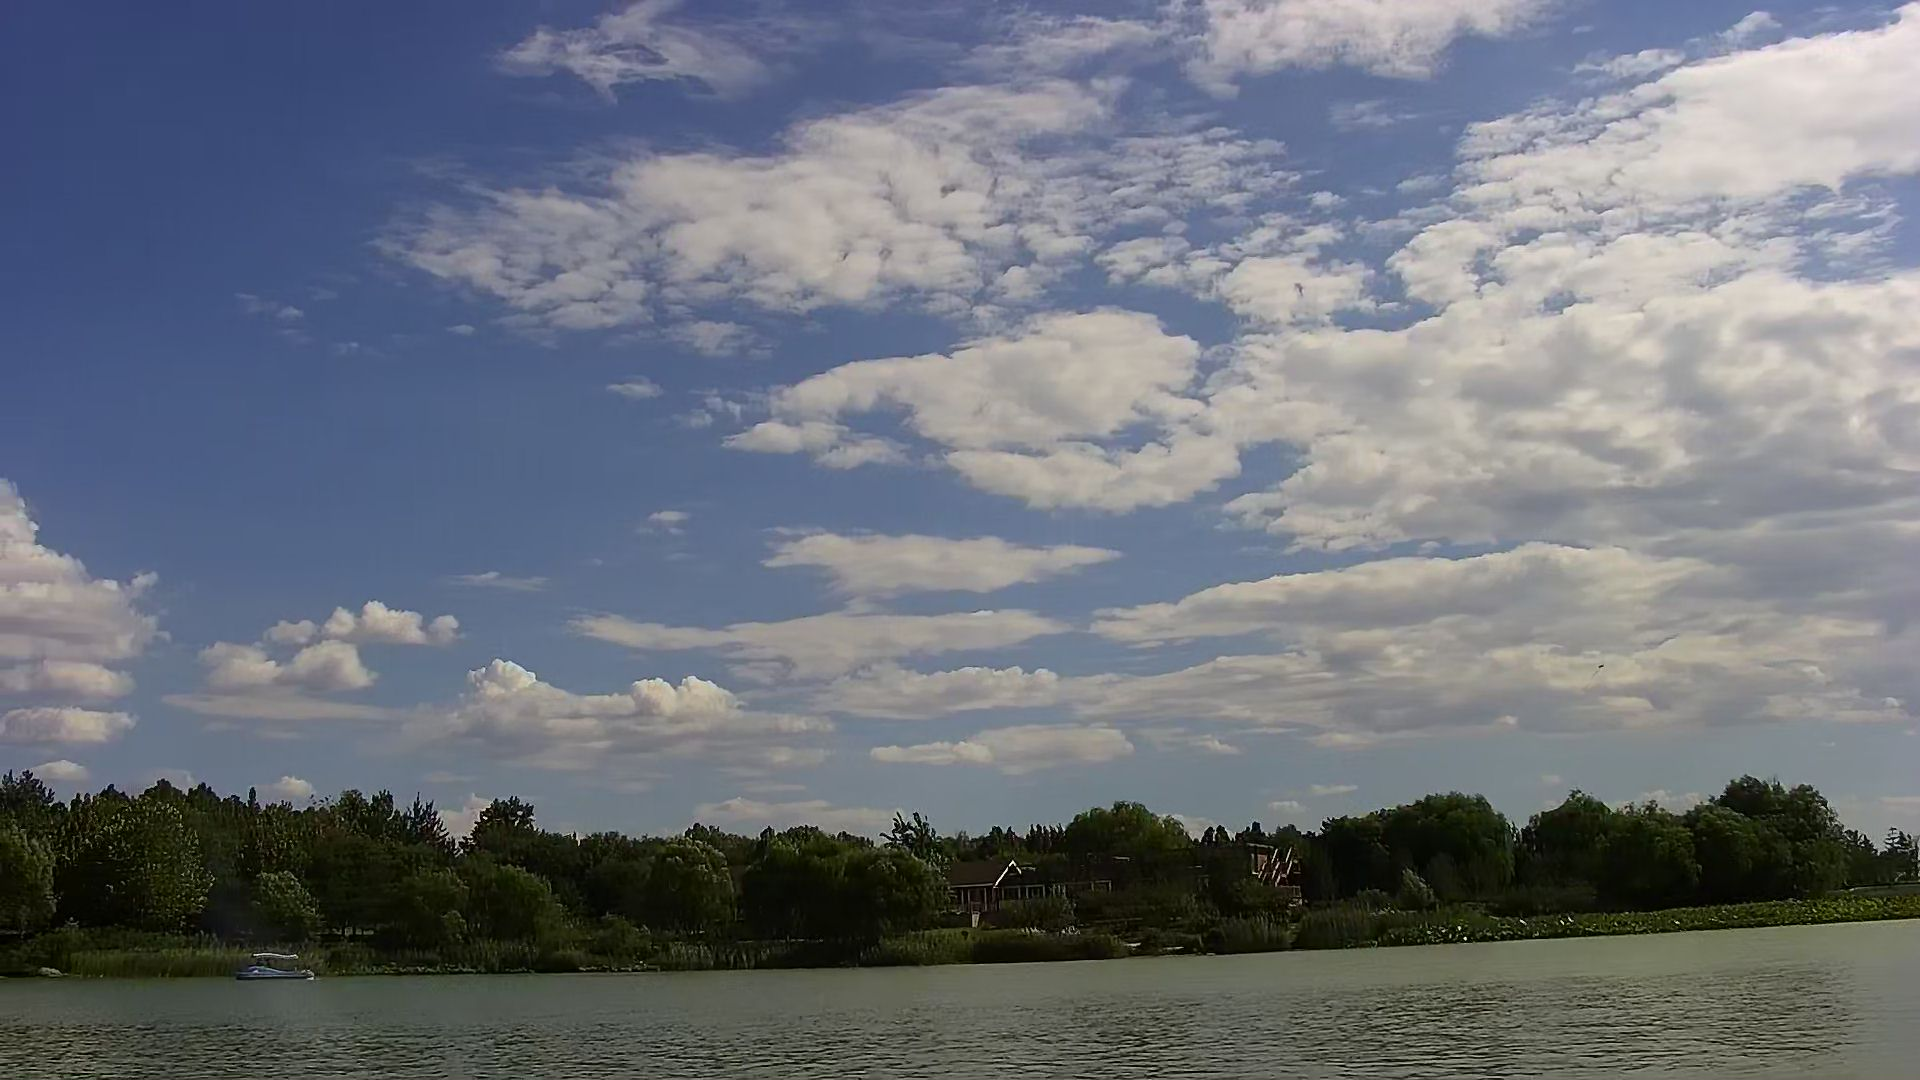boat: (237, 947, 324, 988)
